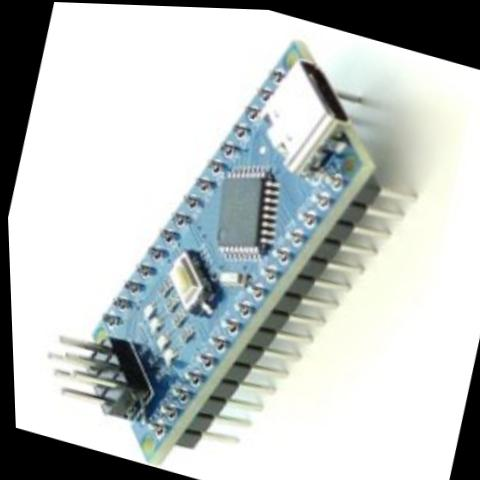Arduino-Nano: (7, 0, 455, 480)
